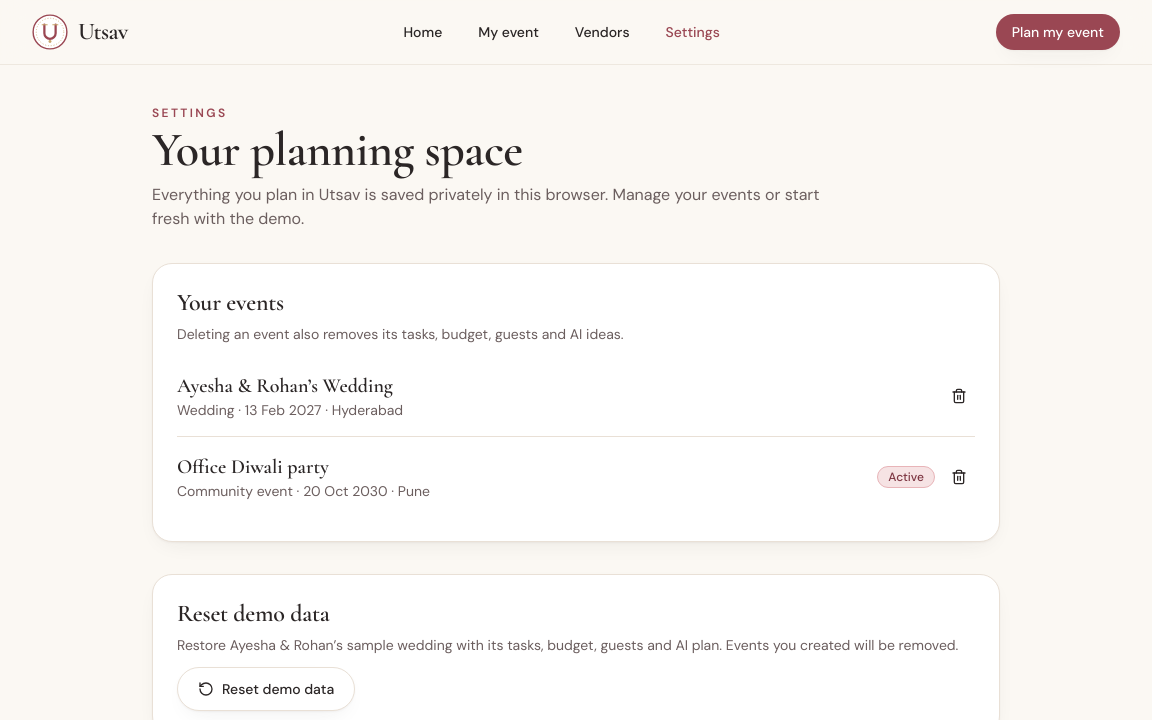
it: SettingsPage › resets to the demo after confirmation, removing events the user created
Expected: the link "Office Diwali party" is shown, [177, 455, 329, 479]
Click the button "Reset demo data" at (266, 689), box [177, 667, 355, 711]
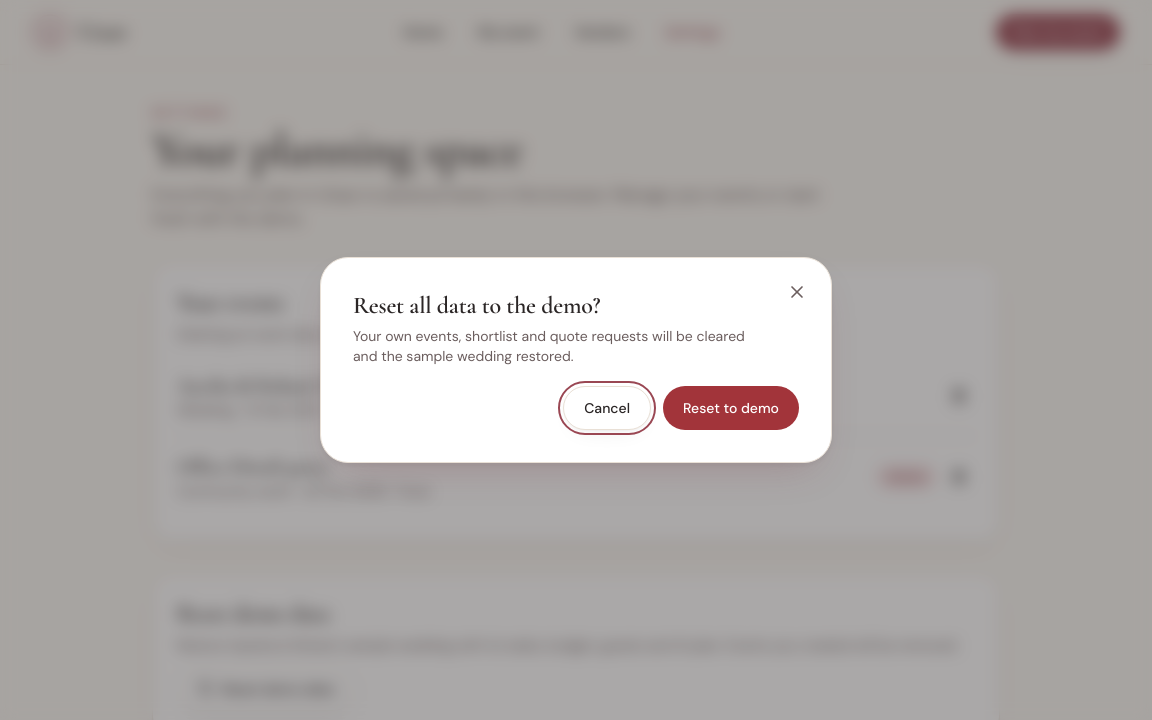
Click the button "Reset to demo" at (731, 408), box [663, 386, 799, 430]
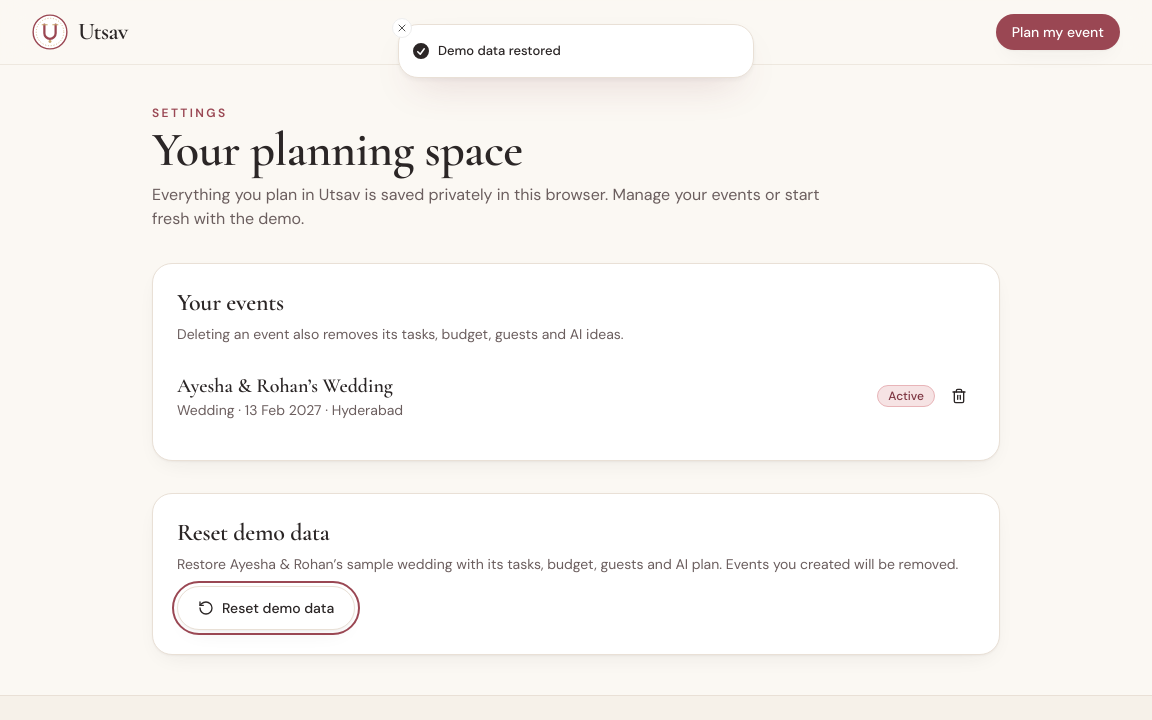
Expected: the text "Demo data restored" is shown, [438, 41, 561, 60]
